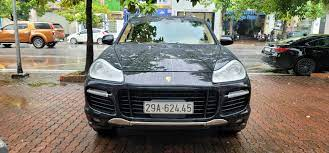Car number plates: (143, 101, 194, 113)
